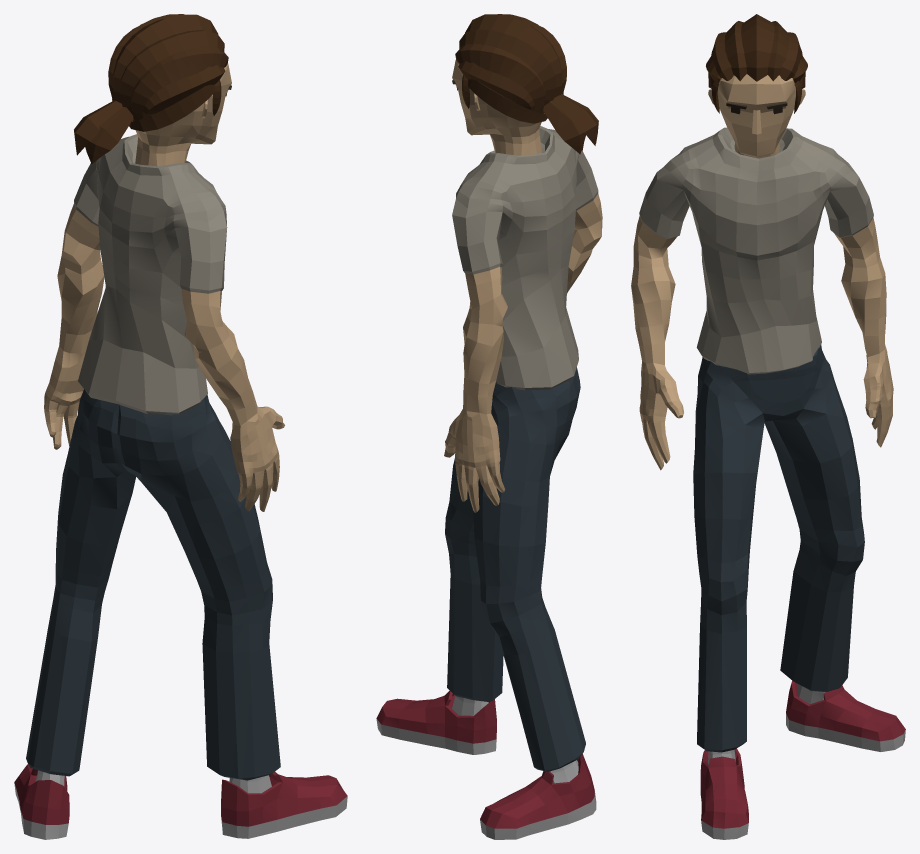
Rendered from persoon_c.glb.
3 renders of one model, left to right at view 1: azimuth 30°, elevation 25°; view 2: azimuth 150°, elevation 25°; view 3: azimuth 270°, elevation 25°, orthographic. The views are drawn at different scales.
Size of the model in its own units: 0.6176 by 1.75 by 0.5802.
